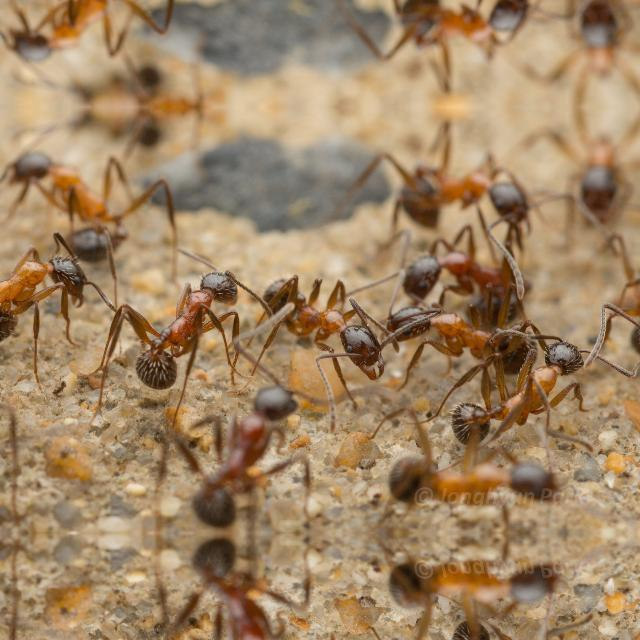Apheanogaster: (164, 374, 326, 532), (107, 253, 256, 402), (0, 206, 144, 360), (430, 322, 614, 442), (0, 131, 162, 245), (162, 532, 326, 640), (255, 260, 407, 376), (376, 540, 570, 622), (376, 444, 570, 524), (364, 146, 540, 232), (0, 0, 162, 80), (363, 298, 542, 370), (362, 0, 540, 66), (382, 234, 544, 306), (542, 106, 638, 224), (540, 0, 638, 106)
